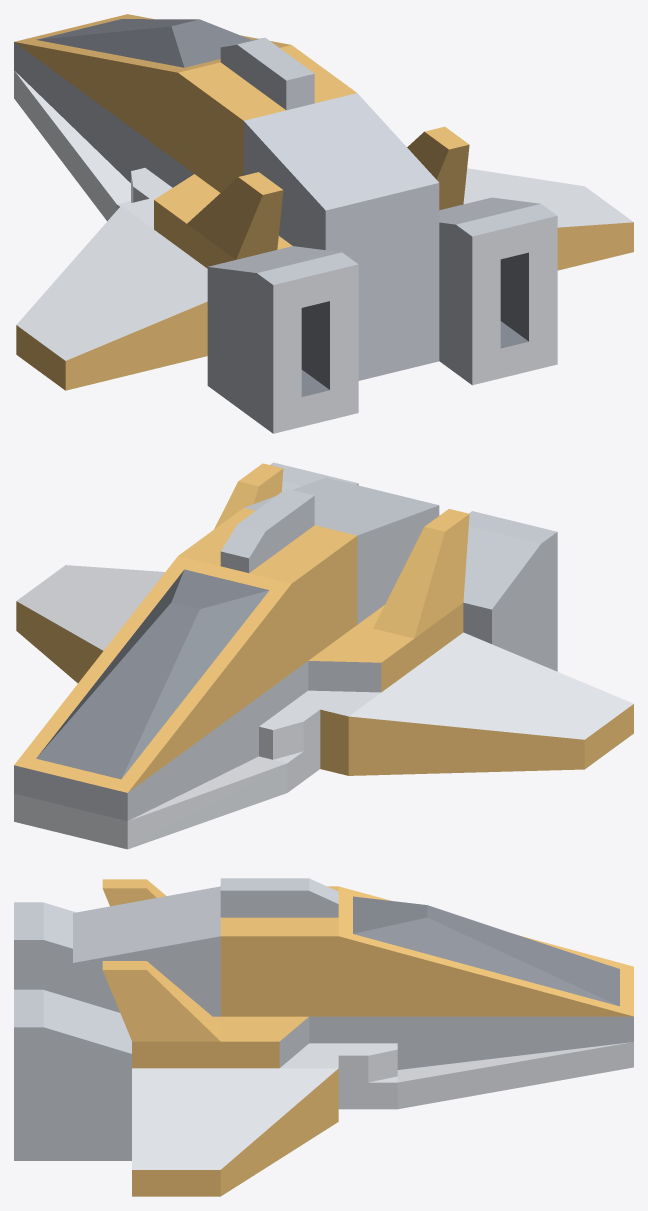
Rendered from craft_speedera.glb.
3 renders of one model, top to bottom at view 1: azimuth 30°, elevation 25°; view 2: azimuth 150°, elevation 25°; view 3: azimuth 270°, elevation 25°, orthographic. The views are drawn at different scales.
Bounding box in the file's own units: 4 × 1.6 × 4.2.
